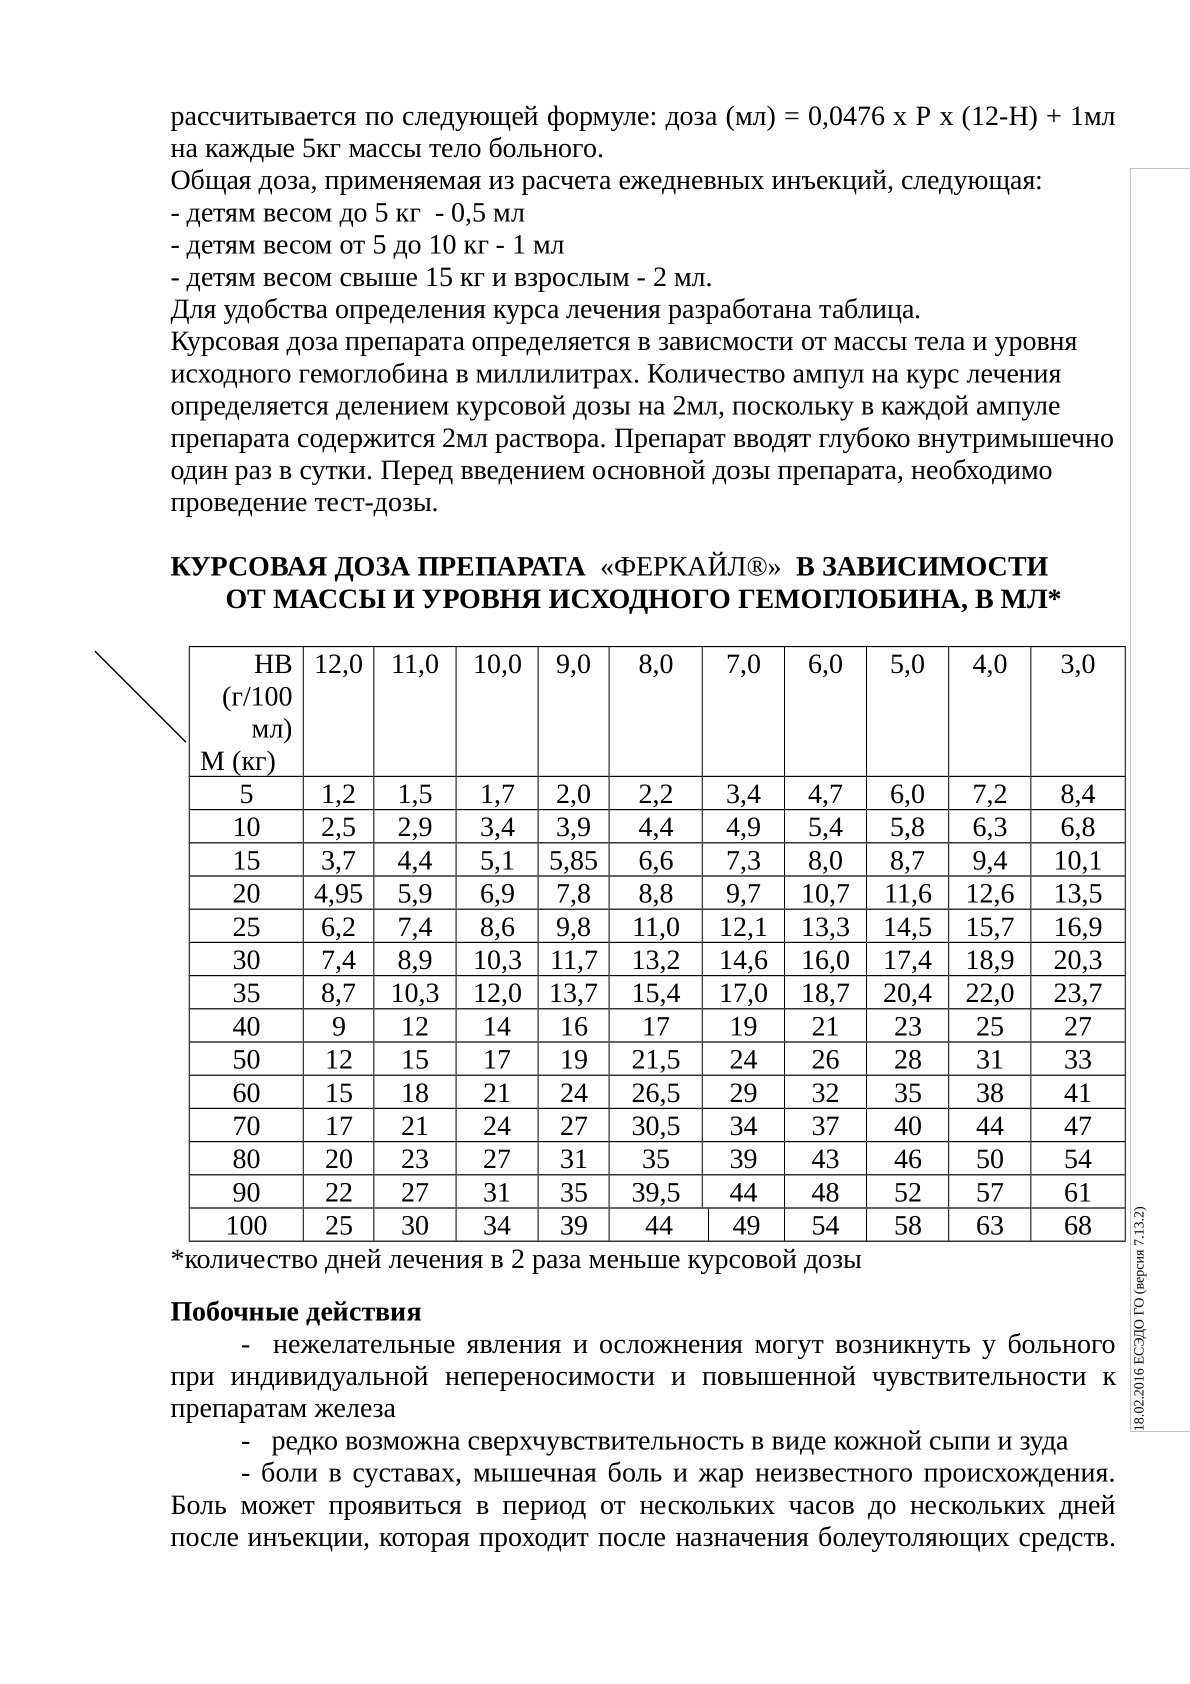full_lined: (193, 648, 1127, 1245)
